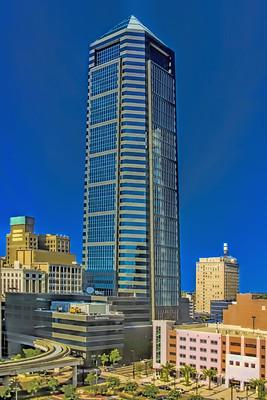building: (82, 16, 182, 362)
